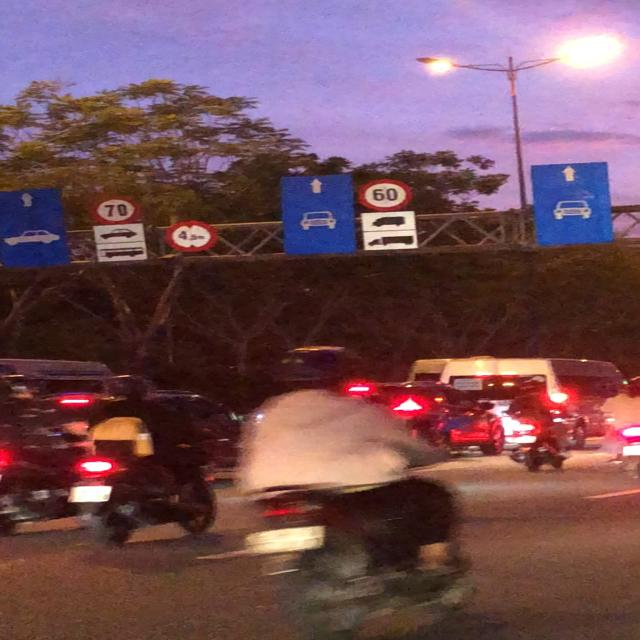Bien bao han che chieu cao: (164, 217, 222, 254)
Bien bao toc do toi da cho phep: (357, 179, 419, 213), (83, 195, 144, 228)
